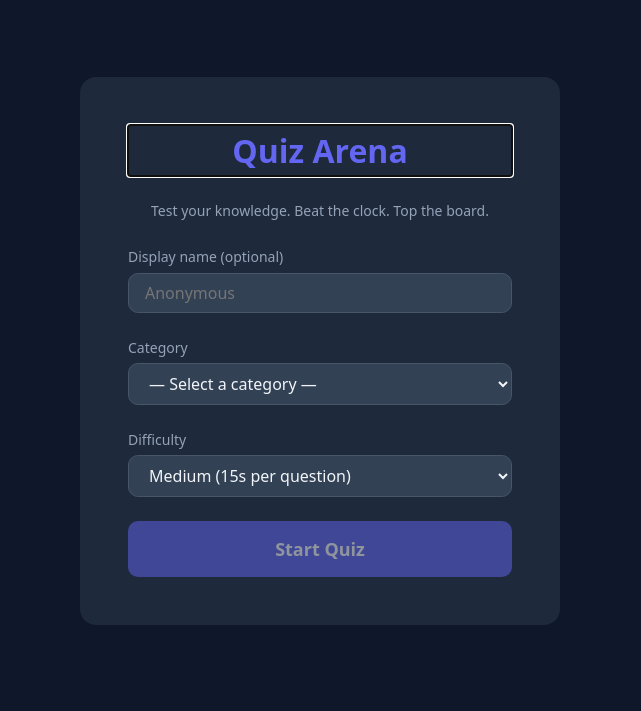
Test case: Quiz flow › advances to next question after feedback delay
Select "General Knowledge" in the dropdown labelled "Category" at [320, 384], box [128,363,512,405]
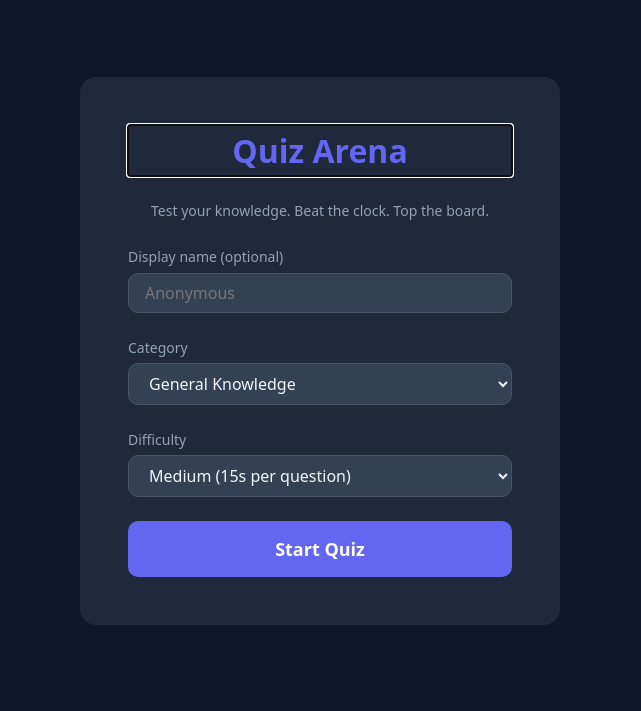
Click the button "Start Quiz".
click(320, 549)  # box [128,521,512,577]
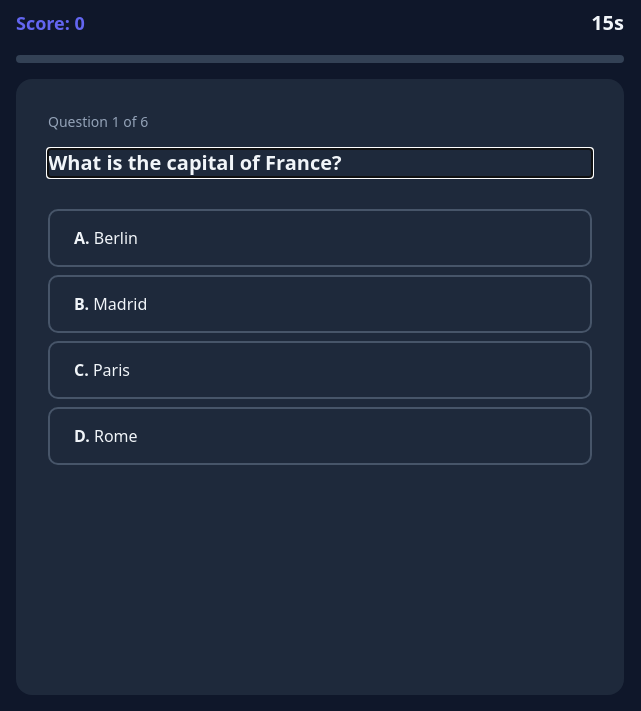
Click the button "A. Berlin".
click(116, 238)  # box [48,209,592,267]
Wait 700 ms
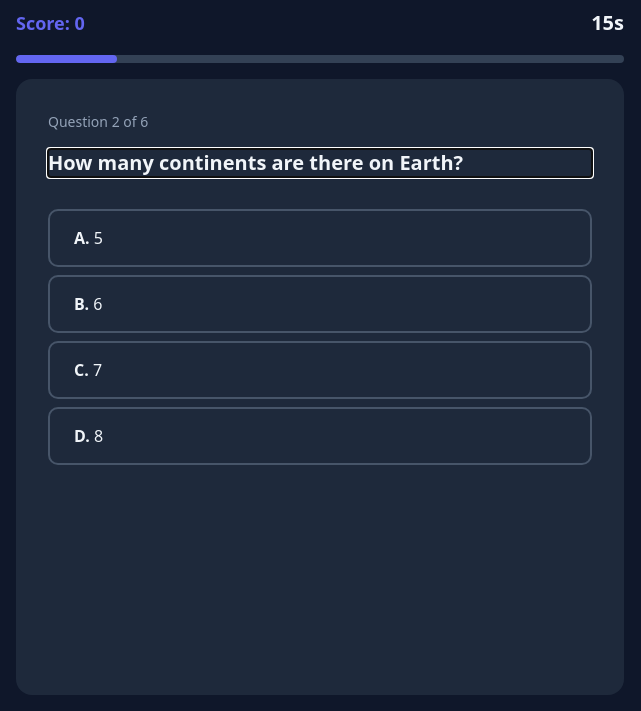
Check: the text "Question 2 of 6" is shown, box [48,112,148,131]
